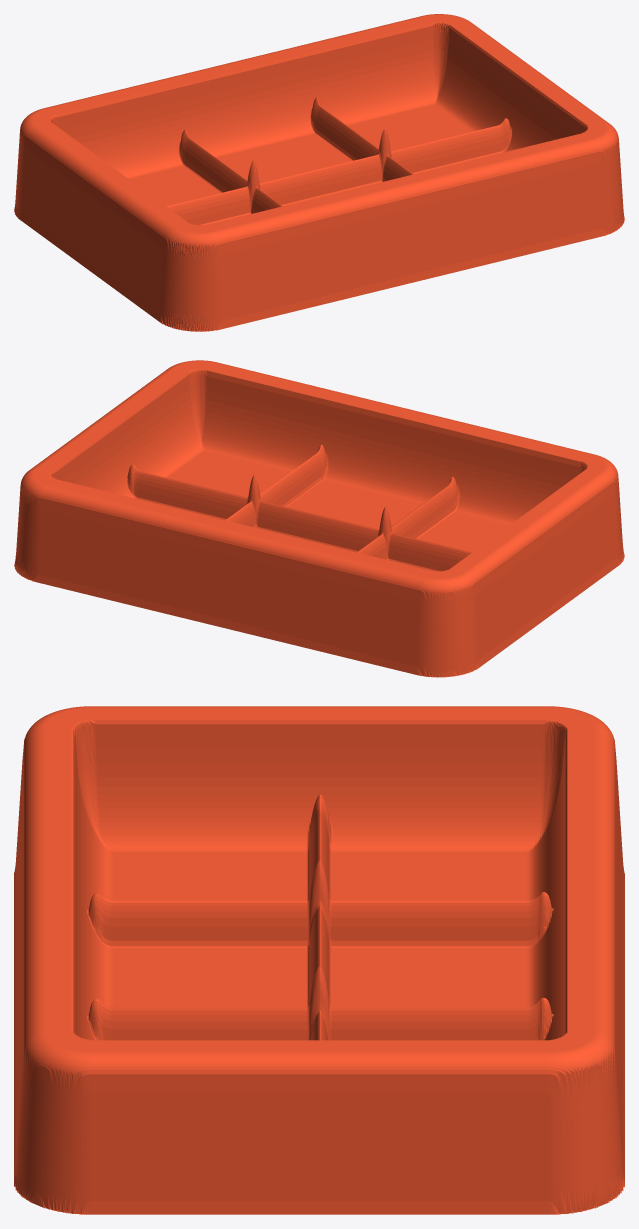
The model's file is mold.glb.
3 views of the same model, one above another, from view 1: azimuth 30°, elevation 25°; view 2: azimuth 150°, elevation 25°; view 3: azimuth 270°, elevation 25° (orthographic). The views are drawn at different scales.
Parts seen in each view (by area): view 1: geometry_0; view 2: geometry_0; view 3: geometry_0.
Boxes of the visible parts, bbox=[...] form: geometry_0: bbox=[14, 14, 624, 331]; geometry_0: bbox=[14, 360, 624, 677]; geometry_0: bbox=[14, 706, 624, 1214].
Bounding box in the file's own units: 0.103 × 0.0195 × 0.072.
